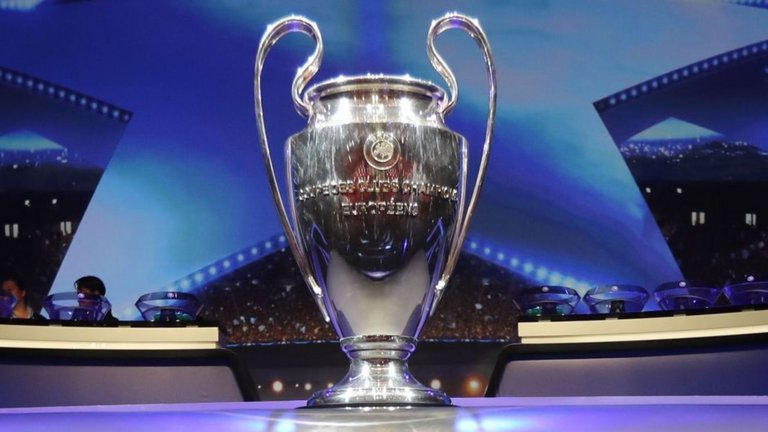trophy: (250, 10, 505, 420)
